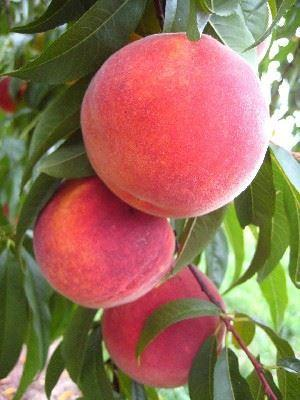Peach Ripe: (80, 33, 267, 216), (34, 177, 174, 307)
